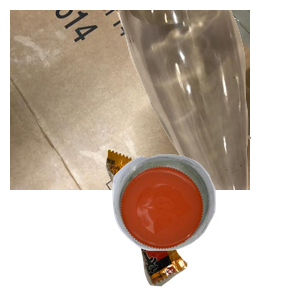cardboard: (10, 10, 250, 190)
glass: (115, 10, 300, 190)
plastic: (110, 152, 300, 300)
trash: (103, 147, 300, 300)
